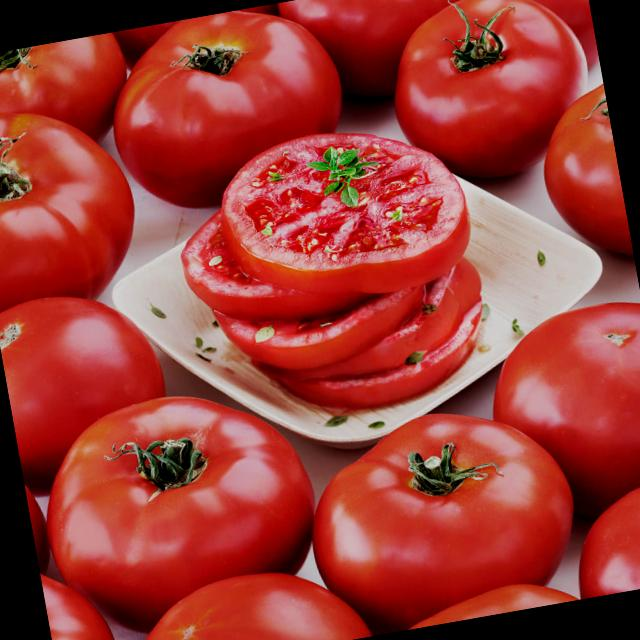tomato: (93, 0, 371, 217), (300, 394, 578, 606), (45, 384, 322, 596), (382, 0, 600, 168)
